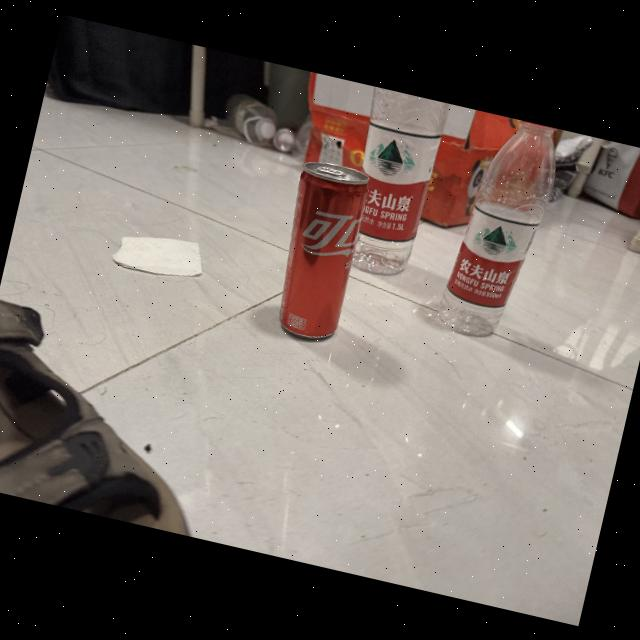Cola: (258, 150, 380, 354)
